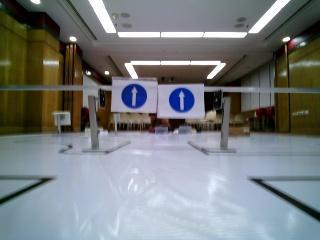straight: (112, 79, 158, 113), (160, 86, 204, 115)
